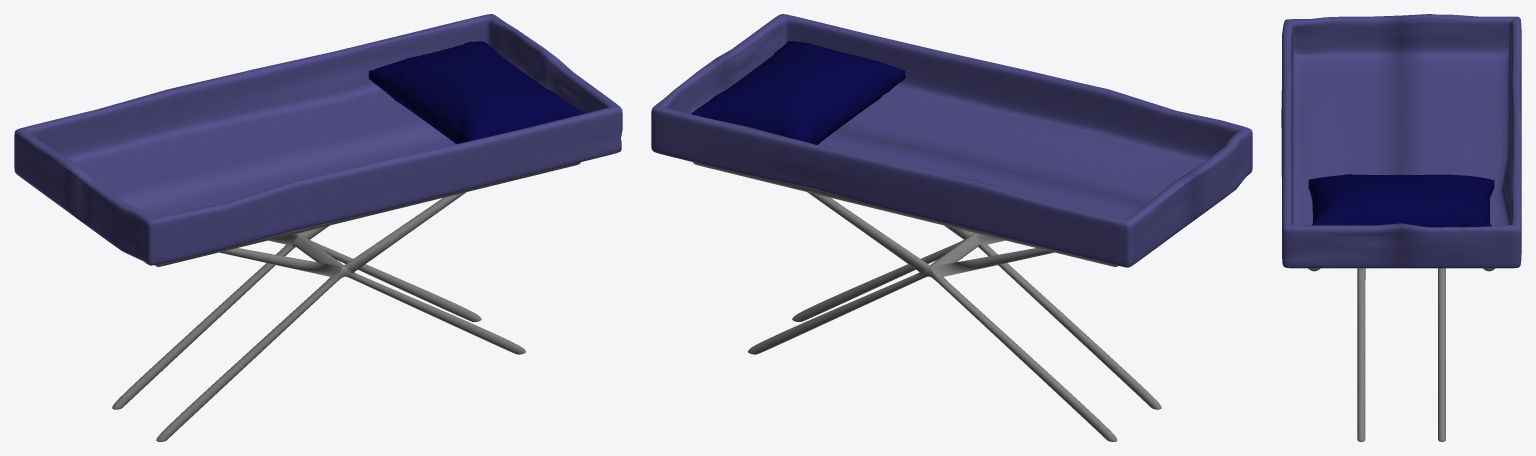
Rendered from ShowerBed.obj.
3 renders of one model, left to right at view 1: azimuth 30°, elevation 25°; view 2: azimuth 150°, elevation 25°; view 3: azimuth 270°, elevation 25°, orthographic. The views are drawn at different scales.
Visible parts, largest first — view 1: Shower_Bed_Madrass_Cube.003, Shower_Bed_legs_Cylinder, Shower_Bed_Pillow_Plane; view 2: Shower_Bed_Madrass_Cube.003, Shower_Bed_legs_Cylinder, Shower_Bed_Pillow_Plane; view 3: Shower_Bed_Madrass_Cube.003, Shower_Bed_Pillow_Plane, Shower_Bed_legs_Cylinder.
Part boxes in pixels (x1,y1,x2,y2): Shower_Bed_Madrass_Cube.003: [14, 14, 622, 265]; Shower_Bed_legs_Cylinder: [112, 162, 580, 441]; Shower_Bed_Pillow_Plane: [368, 41, 583, 144]; Shower_Bed_Madrass_Cube.003: [651, 14, 1252, 267]; Shower_Bed_legs_Cylinder: [693, 162, 1161, 441]; Shower_Bed_Pillow_Plane: [691, 41, 905, 144]; Shower_Bed_Madrass_Cube.003: [1281, 14, 1521, 268]; Shower_Bed_Pillow_Plane: [1308, 174, 1494, 227]; Shower_Bed_legs_Cylinder: [1308, 268, 1494, 441].
Bounding box in the file's own units: 2.51 × 1.35 × 1.18.
